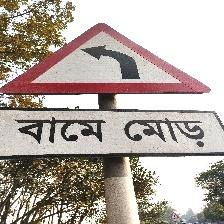Left-Turn: (0, 22, 220, 155)
